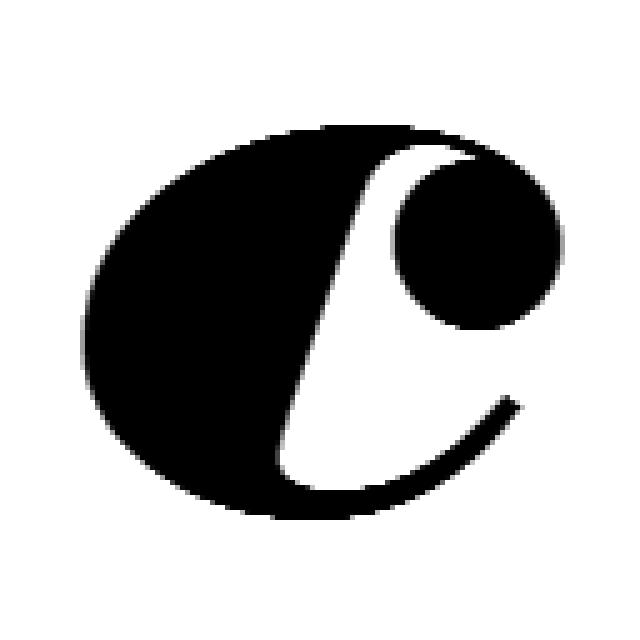C: (85, 125, 560, 520)
